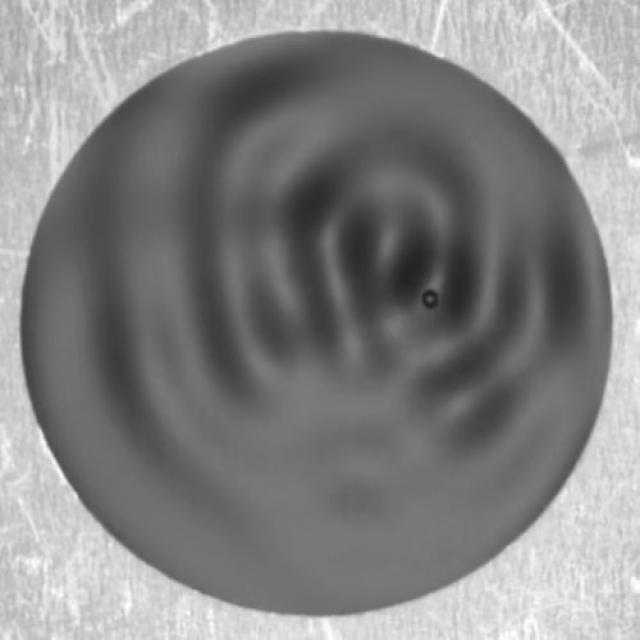droplet: (420, 288, 441, 313)
